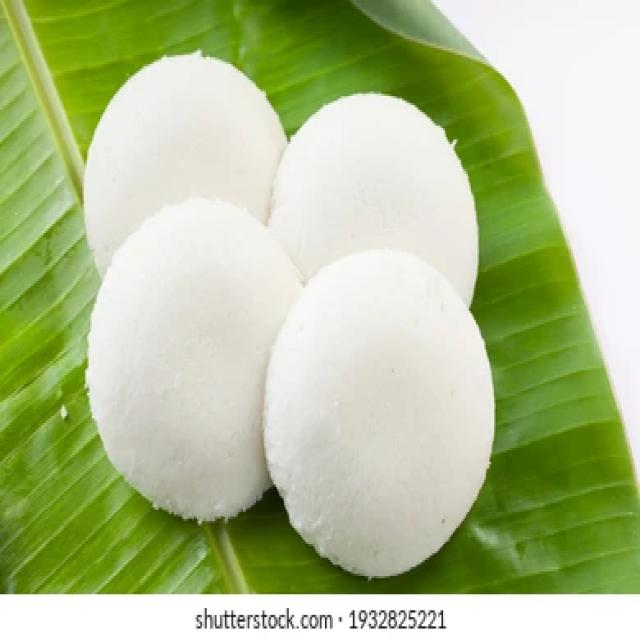IDLI: (257, 244, 495, 579), (90, 205, 302, 517), (87, 53, 283, 278), (269, 91, 478, 296)
